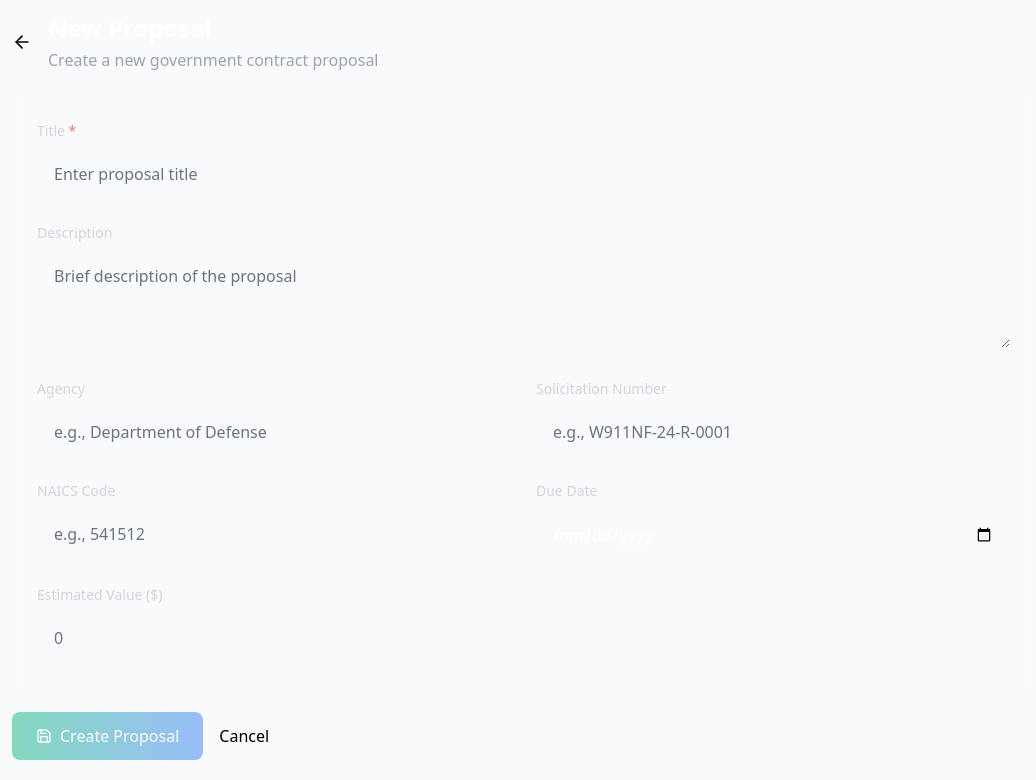
NewProposalPage › enables submit button when title is filled
Type "Test Proposal" into the field with placeholder "Enter proposal title" at coordinates (524, 174), box [37,149,1011,199]
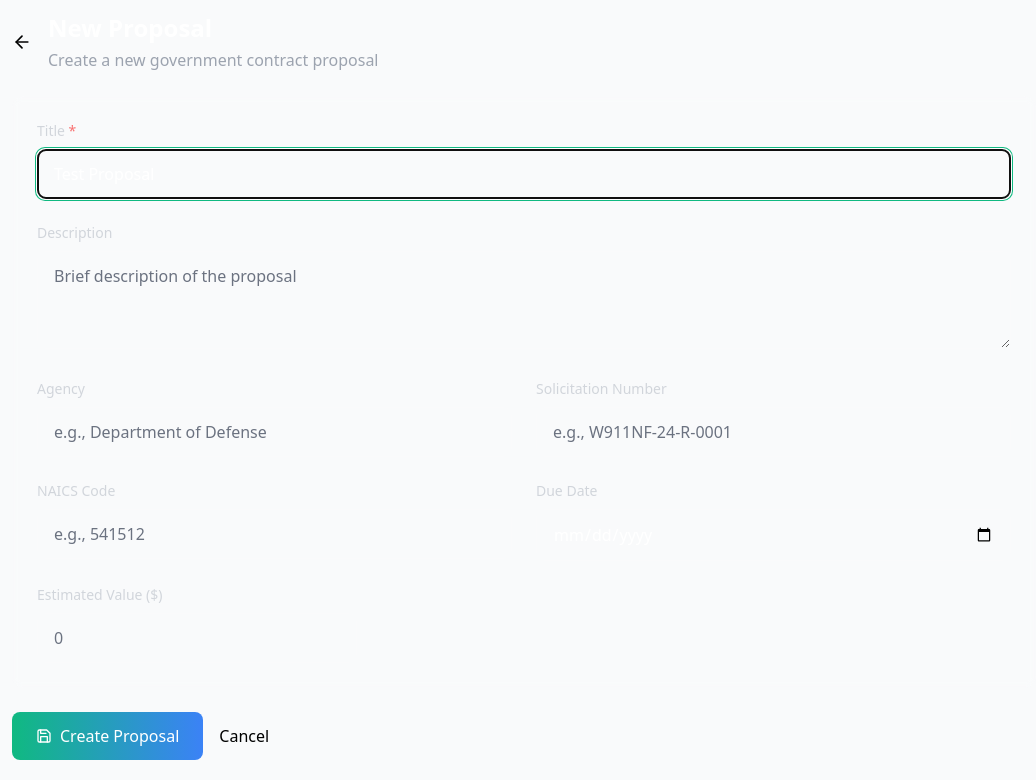
Expected: the button "Create Proposal" is enabled, [12,712,203,760]
